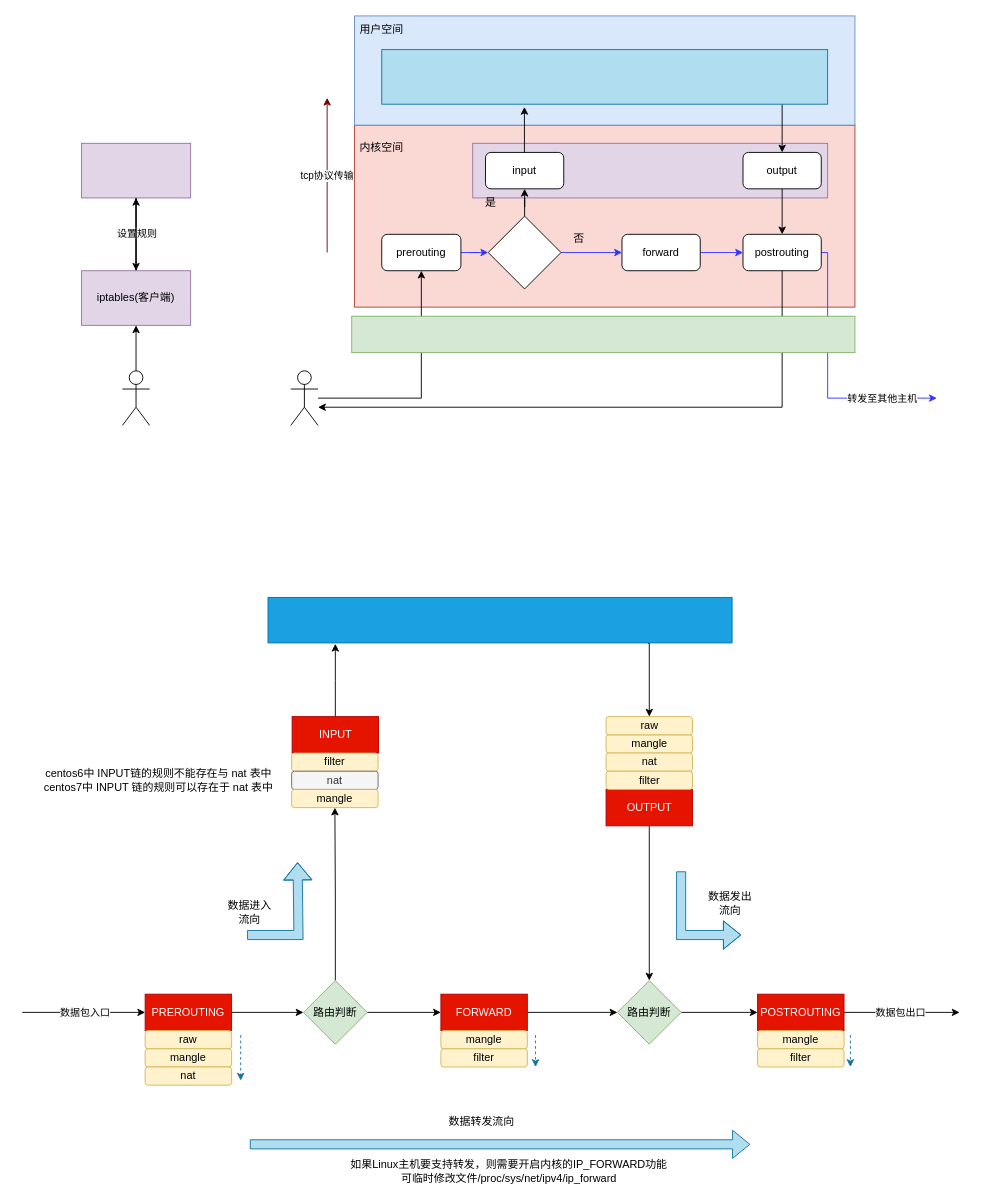
The diagram is 983 pixels wide and 1201 high, and some of its shapes have lost their labels. Here are the shapes that lost their labels. From the top down, the box of each, then its label:
(381, 49, 828, 104): Web服务(监听 ip:port) 终点/原点
(81, 142, 191, 198): netfilter(服务端)
(472, 142, 828, 198): netfilter (内核网络框架)
(487, 215, 561, 289): 目标是否 为本机
(351, 315, 855, 353): 网卡
(121, 370, 150, 425): 运维/管理员
(290, 370, 318, 425): 用户
(267, 597, 732, 643): 上层协议
